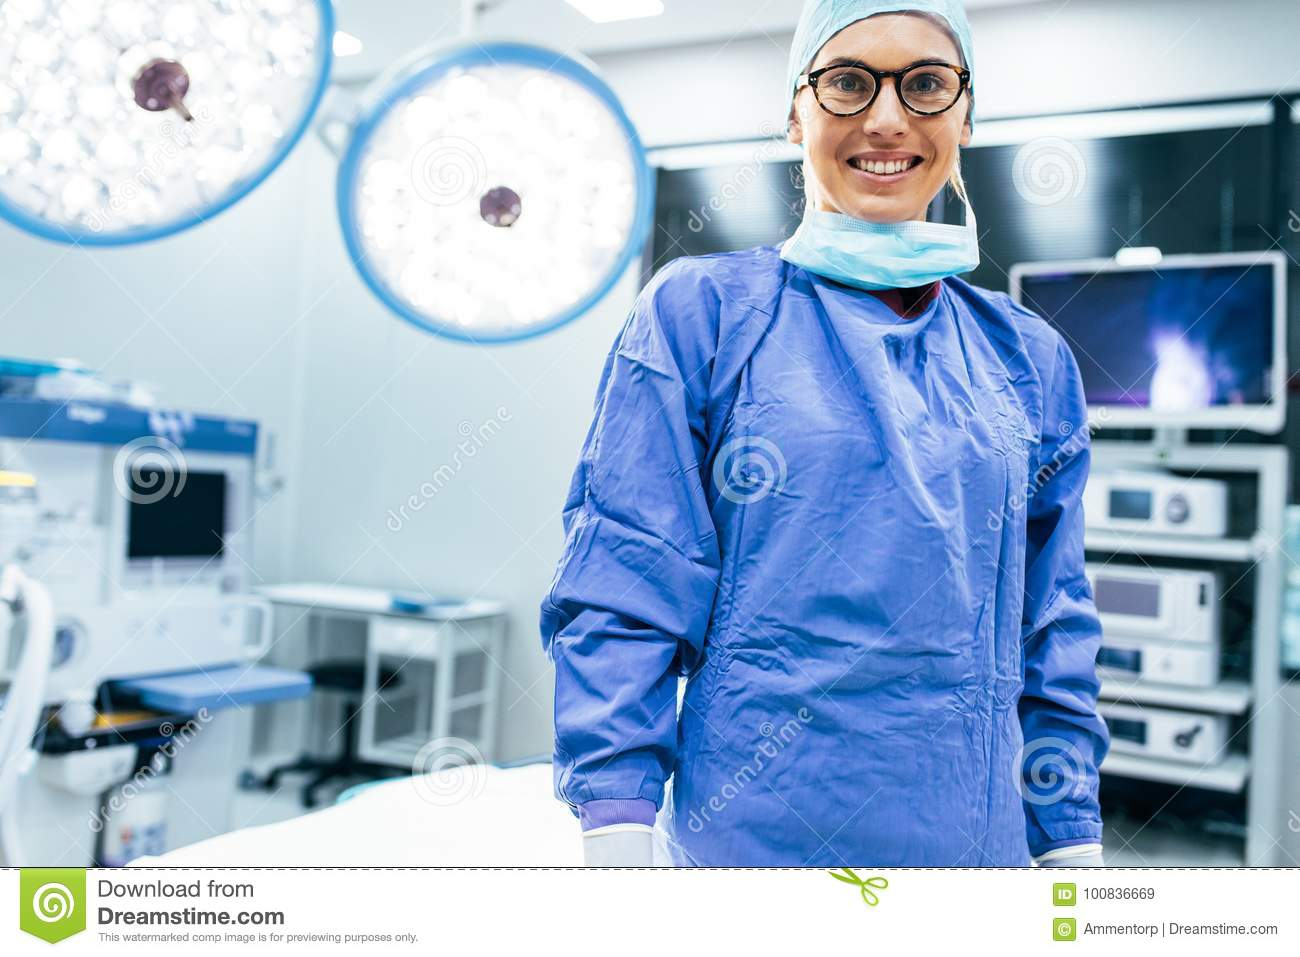mask: (795, 207, 981, 313)
